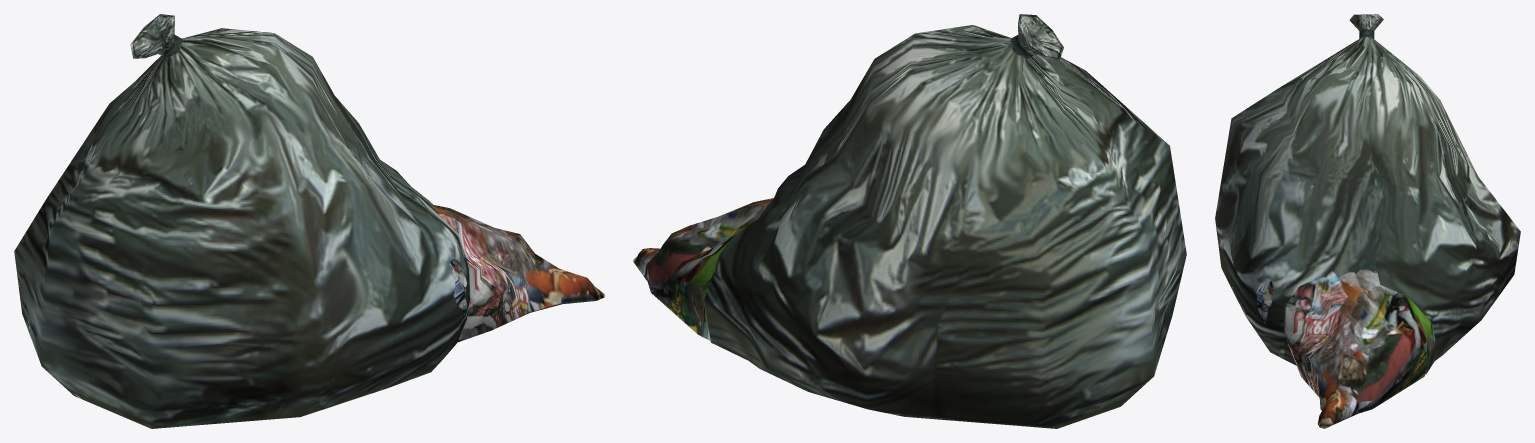
File: TrashBag5.fbx
3 renders of one model, left to right at view 1: azimuth 30°, elevation 25°; view 2: azimuth 150°, elevation 25°; view 3: azimuth 270°, elevation 25°, orthographic. The views are drawn at different scales.
Visible parts, largest first — view 1: TrashBag5 (2); view 2: TrashBag5 (2); view 3: TrashBag5 (2).
Part boxes in pixels (bbox=[...]): TrashBag5 (2): bbox=[14, 14, 604, 428]; TrashBag5 (2): bbox=[633, 14, 1186, 428]; TrashBag5 (2): bbox=[1215, 14, 1520, 428].
Bounding box in the file's own units: 128 × 81.33 × 84.29.
